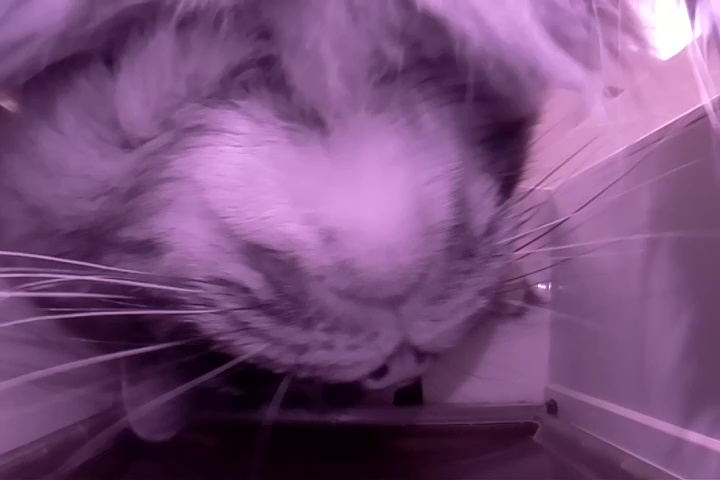Snout: (299, 234, 476, 393)
